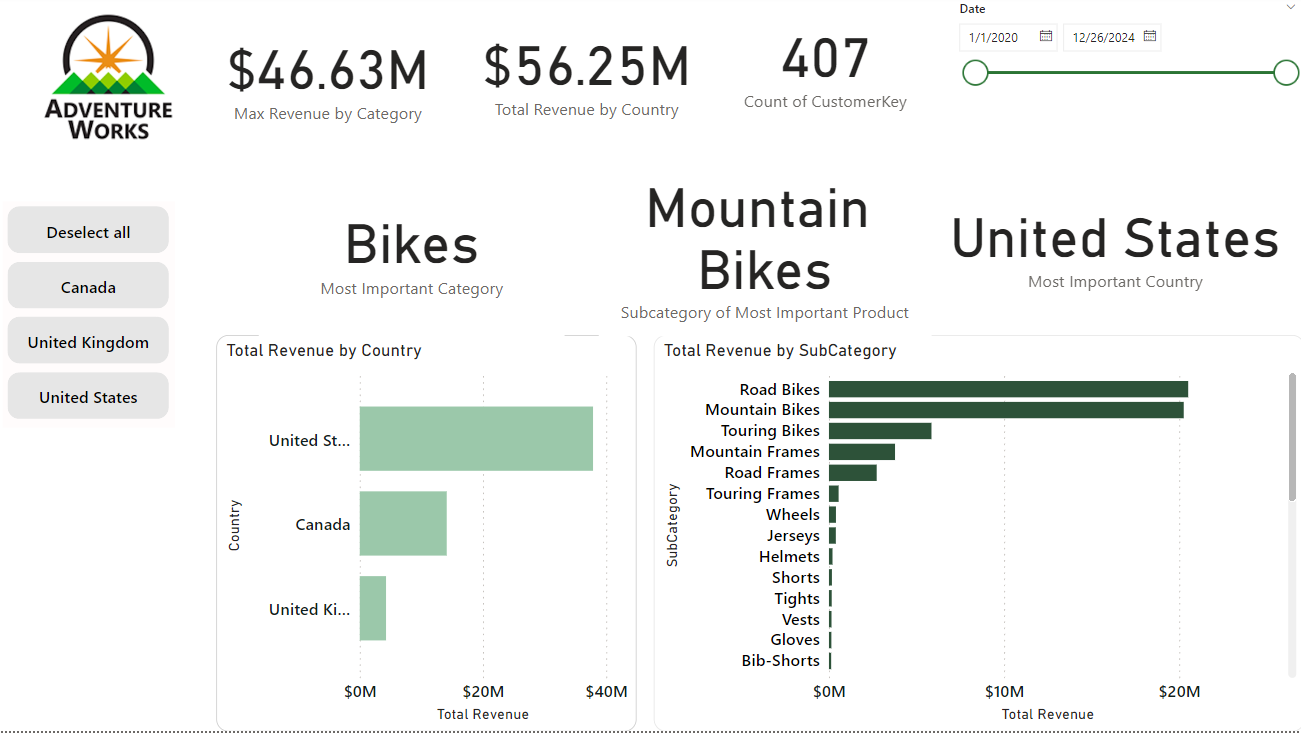

Layout of this report page (visuals, bound fields, positions):
{"tool":"powerbi","page":{"name":"Overall_Insights","canvas":[1280,720],"ordinal":4},"visuals":[{"type":"image","box":[0,6.1,211.6,148],"z":0},{"type":"clusteredBarChart","fields":{"Category":["ProductInfo.SubCategory"],"Y":["FactSales.Total Revenue by Subcategory"]},"box":[639.5,332.6,637.1,387.6],"z":1000},{"type":"slicer","fields":{"Values":["Date.Date"]},"box":[925.7,0,354.6,140.6],"z":2000},{"type":"advancedSlicerVisual","fields":{"Values":["CustomerInfo.Country"]},"box":[2.5,201.2,168.8,221.2],"z":3000},{"type":"clusteredBarChart","fields":{"Category":["CustomerInfo.Country"],"Y":["FactSales.Total Revenue by Country"]},"box":[211.6,332.6,410.9,387.6],"z":4000},{"type":"card","fields":{"Values":["FactSales.Subcategory of Most Important Product"]},"box":[585.7,149.2,325.3,184.6],"z":5000},{"type":"card","fields":{"Values":["FactSales.Most Important Category"]},"box":[253.1,161.4,299.6,172.4],"z":6000},{"type":"card","fields":{"Values":["FactSales.Most Important Country"]},"box":[911,156.5,360.7,170],"z":7000},{"type":"card","fields":{"Values":["FactSales.Total Revenue by Country"]},"box":[431.7,0,284.9,145.5],"z":8000},{"type":"card","fields":{"Values":["FactSales.Max Revenue by Category"]},"box":[171.2,0,299.6,154.1],"z":9000},{"type":"card","fields":{"Values":["Count(FactSales.CustomerKey)"]},"box":[681.1,0,253.1,130.8],"z":10000}]}

Visuals, with their boxes in screenshot pixels (x1, y1, x2, y2), scaled from the page's 1280x720 canvas onto the 1301x733 screenshot:
image: [0,6,215,157]
clusteredBarChart - ProductInfo.SubCategory x FactSales.Total Revenue by Subcategory: [650,339,1298,732]
slicer - Date.Date: [941,0,1300,143]
advancedSlicerVisual - CustomerInfo.Country: [3,205,174,430]
clusteredBarChart - CustomerInfo.Country x FactSales.Total Revenue by Country: [215,339,633,732]
card - FactSales.Subcategory of Most Important Product: [595,152,926,340]
card - FactSales.Most Important Category: [257,164,562,340]
card - FactSales.Most Important Country: [926,159,1293,332]
card - FactSales.Total Revenue by Country: [439,0,728,148]
card - FactSales.Max Revenue by Category: [174,0,479,157]
card - Count(FactSales.CustomerKey): [692,0,950,133]
